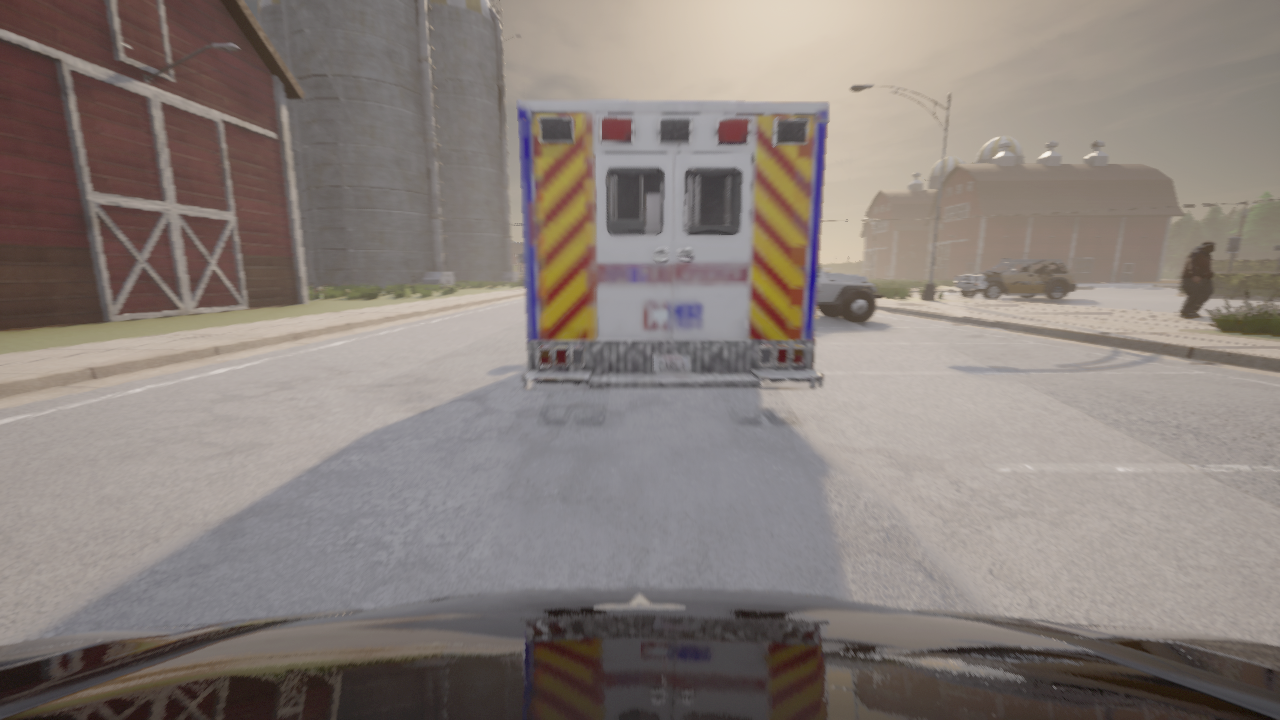cyclist: (0, 588, 1279, 719), (518, 99, 829, 389), (954, 259, 1075, 299), (817, 264, 883, 322)
pedestrian: (1180, 241, 1214, 317)
